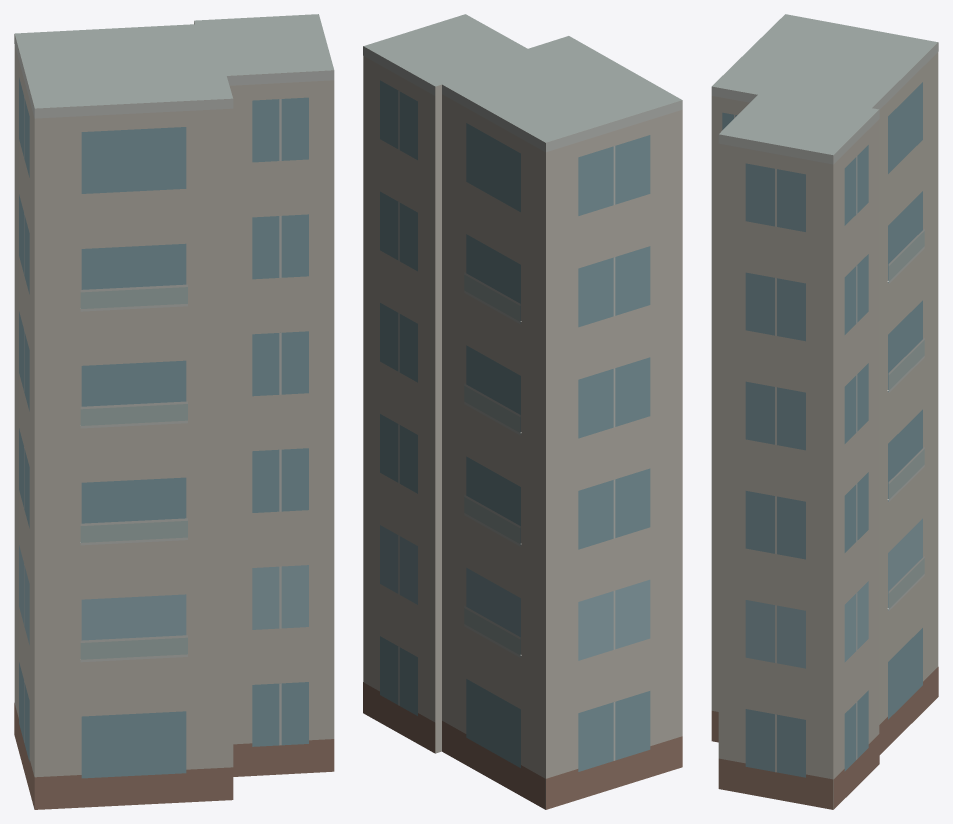
The model's file is survey-upis-33024392.glb.
The picture shows the model from 3 angles, left to right: view 1: azimuth 30°, elevation 25°; view 2: azimuth 150°, elevation 25°; view 3: azimuth 270°, elevation 25°; orthographic projection. The views are drawn at different scales.
Parts seen in each view (by area): view 1: survey-upis-33024392.tmp; view 2: survey-upis-33024392.tmp; view 3: survey-upis-33024392.tmp.
Boxes of the visible parts, bbox=[...] form: survey-upis-33024392.tmp: bbox=[14, 14, 334, 809]; survey-upis-33024392.tmp: bbox=[363, 14, 682, 809]; survey-upis-33024392.tmp: bbox=[711, 14, 938, 809].
Bounding box in the file's own units: 7.92 × 17.1 × 5.38.
